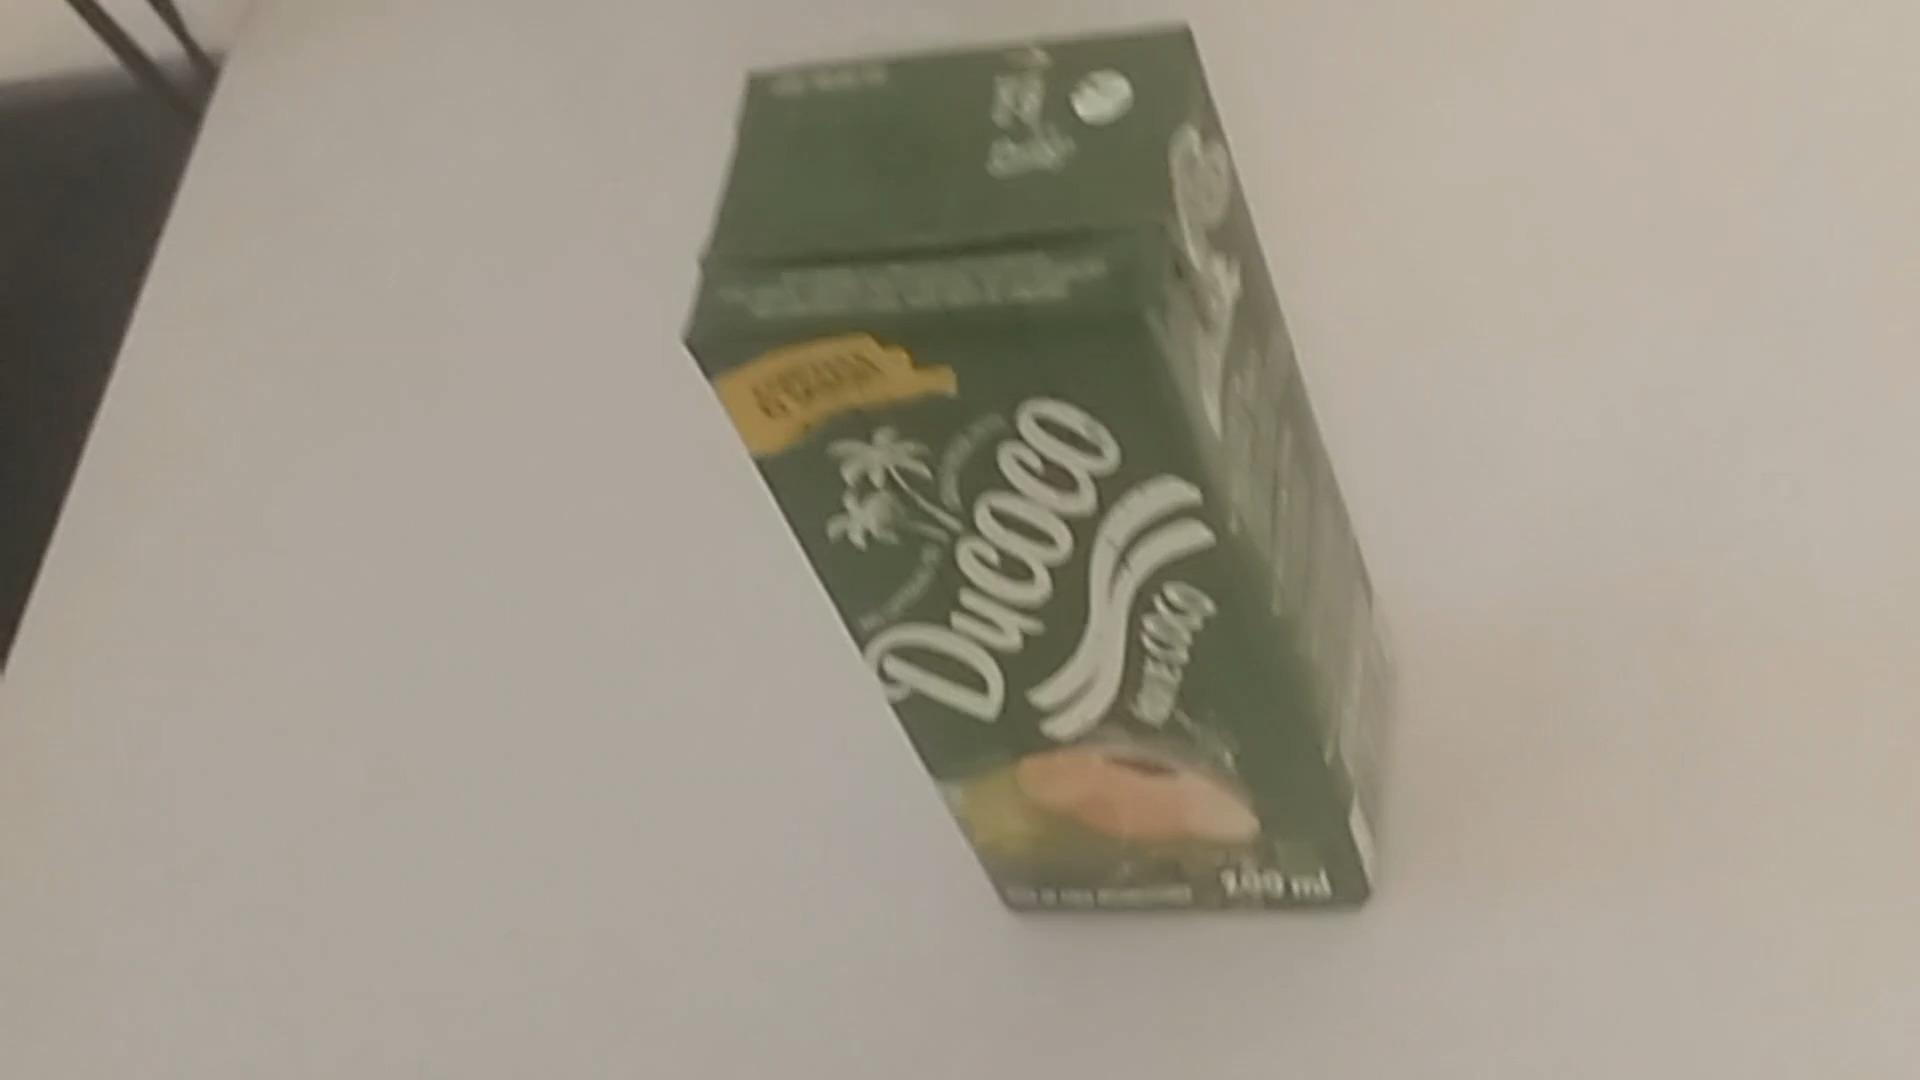coco: (680, 17, 1379, 931)
